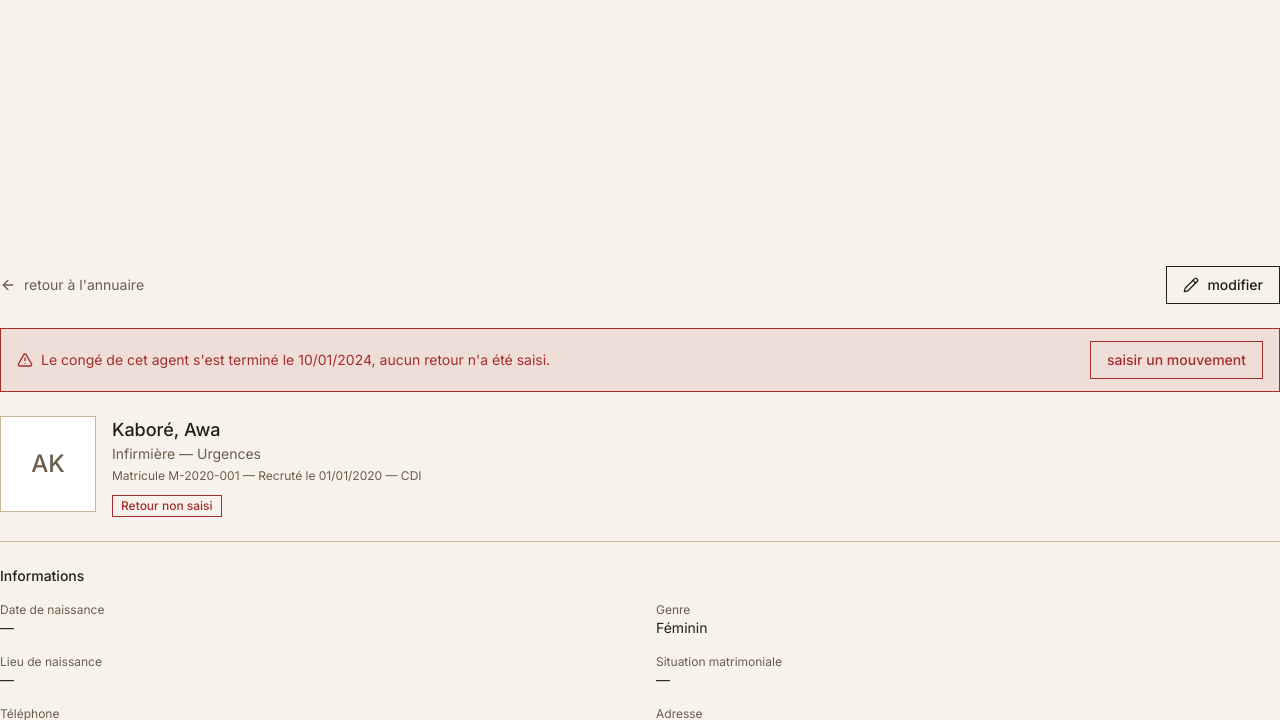
Test: FicheAgent — bandeau CONGE_DEPASSE › le bandeau apparaît avec la date de fin de congé et son bouton pré-remplit la date d'effet de la modale
(page scrolled)
Expected: the text "aucun retour n'a été saisi" shows "10/01/2024", [298,351,372,368]
Step 1. Click the button "saisir un mouvement" → coordinates (1176, 360), box [1090,341,1263,379]
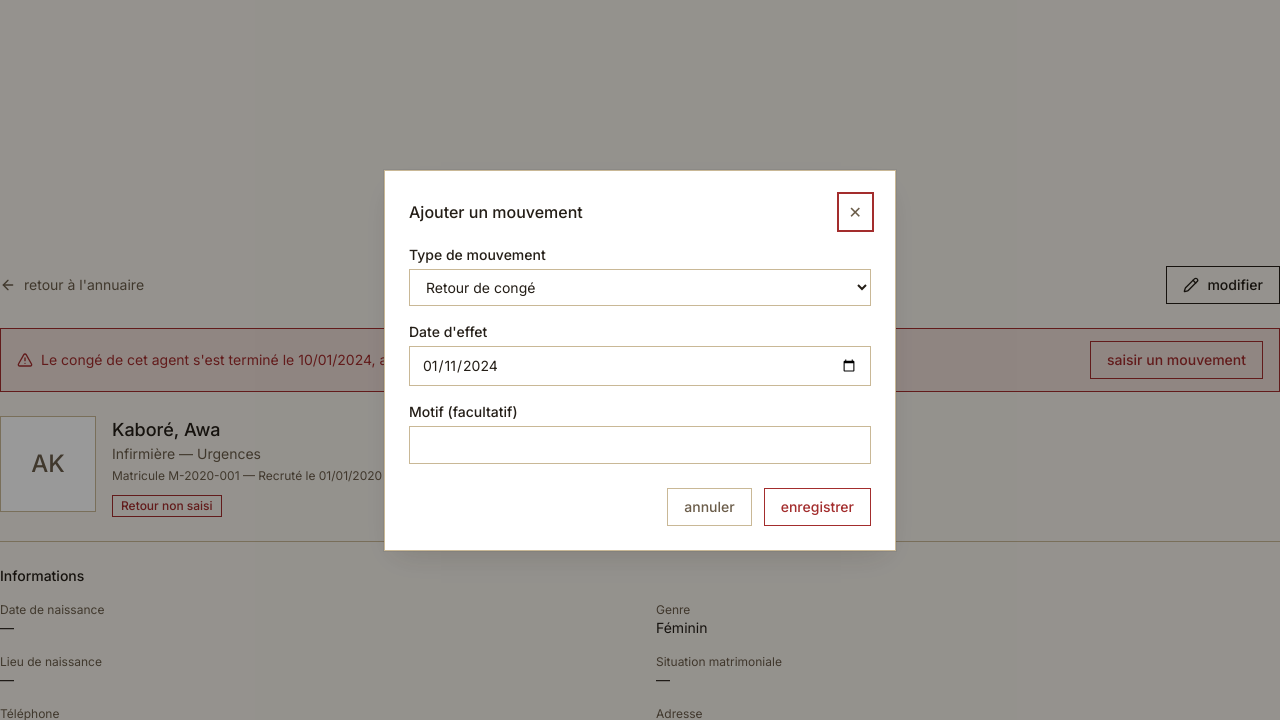
Now the date field labelled "Date d'effet" holds "2024-01-11", box [409,346,871,386]
